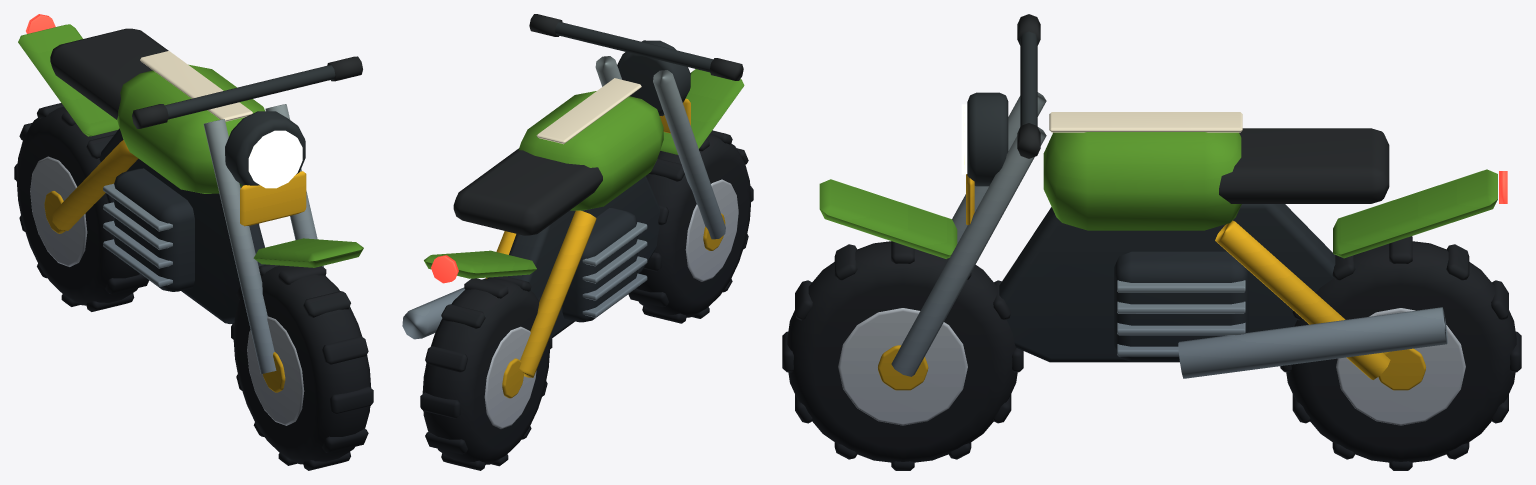
The model's file is motorcycle.glb.
3 renders of one model, left to right at view 1: azimuth 30°, elevation 25°; view 2: azimuth 150°, elevation 25°; view 3: azimuth 270°, elevation 25°, orthographic. The views are drawn at different scales.
Visible parts, largest first — view 1: Knobby tire, Knobby tire.001, Fuel tank, Frame, Engine, Saddle, Front fork, Rear fender, Wheel rim.002, Wheel rim, Handlebar, Headlamp housing (+21 smaller); view 2: Knobby tire.001, Knobby tire, Fuel tank, Saddle, Frame, Engine, Rear shock, Front fork, Wheel rim, Wheel rim.002, Front fender, Tank stripe (+20 smaller); view 3: Knobby tire, Knobby tire.001, Frame, Fuel tank, Saddle, Exhaust, Wheel rim.001, Engine, Rear fender, Front fork.001, Wheel rim.003, Front fender (+10 smaller).
Part boxes in pixels (x1,y1,x2,y2): Knobby tire: (233,265,371,464); Knobby tire.001: (16,106,139,305); Fuel tank: (117,64,264,193); Frame: (99,128,265,323); Engine: (113,168,194,291); Saddle: (50,28,168,119); Front fork: (203,119,276,373); Rear fender: (18,24,119,136); Wheel rim.002: (30,156,87,266); Wheel rim: (247,316,304,425); Handlebar: (165,65,335,119); Headlamp housing: (225,111,305,185); Knobby tire.001: (422,278,550,464); Knobby tire: (636,134,751,317); Fuel tank: (519,91,663,210); Saddle: (453,148,602,235); Frame: (507,176,659,337); Engine: (562,208,637,322); Rear shock: (519,210,596,377); Front fork: (653,70,725,239); Wheel rim: (685,179,738,281); Wheel rim.002: (484,326,536,428); Front fender: (660,69,744,154); Tank stripe: (536,78,641,144); Knobby tire: (787,241,1017,462); Knobby tire.001: (1286,241,1516,462); Frame: (999,204,1335,362); Fuel tank: (1043,132,1241,230); Saddle: (1219,128,1389,203); Exhaust: (1178,307,1447,378); Wheel rim.001: (838,308,967,425); Engine: (1114,251,1248,361); Rear fender: (1333,169,1497,258); Front fork.001: (891,127,1046,376); Wheel rim.003: (1336,308,1465,425); Front fender: (819,179,957,258).
Size of the model in its own units: 1 by 1.45 by 2.52.
Materials: 9 (7 with a texture image).
